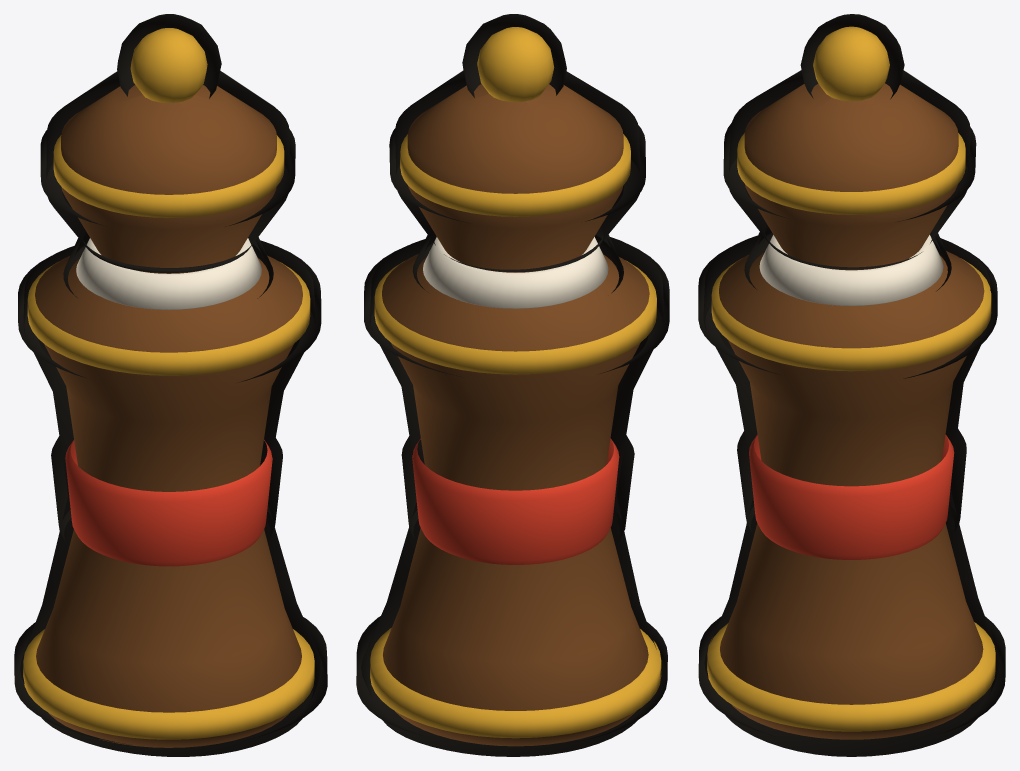
File: peppermill.glb
3 renders of one model, left to right at view 1: azimuth 30°, elevation 25°; view 2: azimuth 150°, elevation 25°; view 3: azimuth 270°, elevation 25°, orthographic.
Parts seen in each view (by area): view 1: PepperMill, PepperMill_outline; view 2: PepperMill, PepperMill_outline; view 3: PepperMill, PepperMill_outline.
Part boxes in pixels (left/top/right/bottom): PepperMill: left=23, top=28, right=314, bottom=747; PepperMill_outline: left=14, top=14, right=327, bottom=756; PepperMill: left=370, top=27, right=661, bottom=746; PepperMill_outline: left=356, top=14, right=669, bottom=756; PepperMill: left=707, top=26, right=995, bottom=739; PepperMill_outline: left=698, top=14, right=1005, bottom=756.
Size of the model in its own units: 0.7246 by 1.75 by 0.7186.
